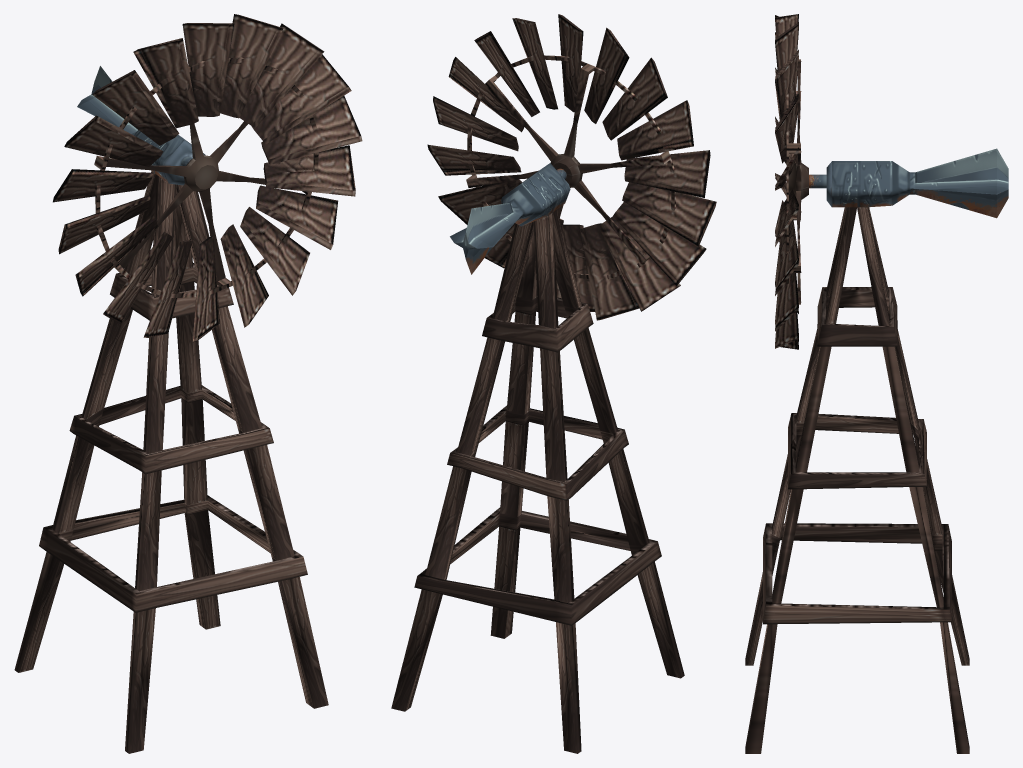
File: moinho.fbx
The picture shows the model from 3 angles, left to right: view 1: azimuth 30°, elevation 25°; view 2: azimuth 150°, elevation 25°; view 3: azimuth 270°, elevation 25°; orthographic projection. The views are drawn at different scales.
Parts seen in each view (by area): view 1: Fazenda_Props_Organizado:CA_OPE_Props_Fazenda_Moinho_001_A, CA_OPE_Props_Fazenda_Moinho_001_B; view 2: CA_OPE_Props_Fazenda_Moinho_001_B, Fazenda_Props_Organizado:CA_OPE_Props_Fazenda_Moinho_001_A; view 3: CA_OPE_Props_Fazenda_Moinho_001_B, Fazenda_Props_Organizado:CA_OPE_Props_Fazenda_Moinho_001_A.
Part boxes in pixels (x1,y1,x2,y2): Fazenda_Props_Organizado:CA_OPE_Props_Fazenda_Moinho_001_A: (53, 14, 362, 341); CA_OPE_Props_Fazenda_Moinho_001_B: (14, 66, 328, 753); CA_OPE_Props_Fazenda_Moinho_001_B: (391, 163, 684, 753); Fazenda_Props_Organizado:CA_OPE_Props_Fazenda_Moinho_001_A: (427, 14, 716, 320); CA_OPE_Props_Fazenda_Moinho_001_B: (745, 148, 1008, 753); Fazenda_Props_Organizado:CA_OPE_Props_Fazenda_Moinho_001_A: (775, 14, 826, 349).
Bounding box in the file's own units: 10.16 × 22.5 × 7.95.
